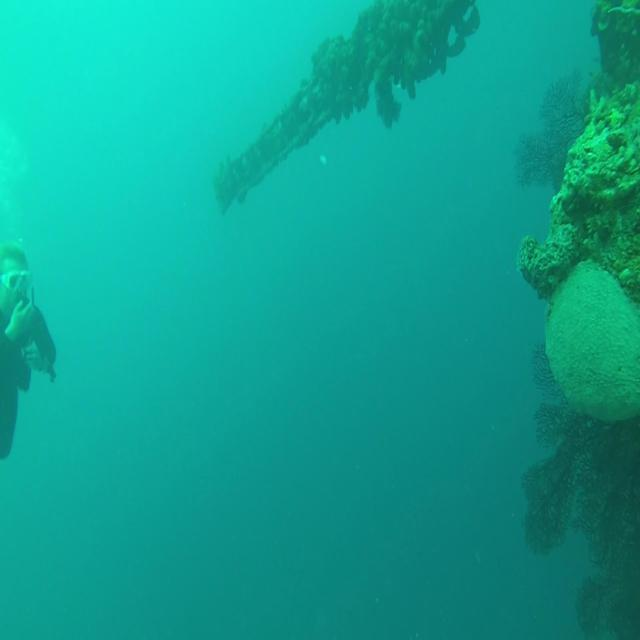human: (0, 240, 57, 460)
